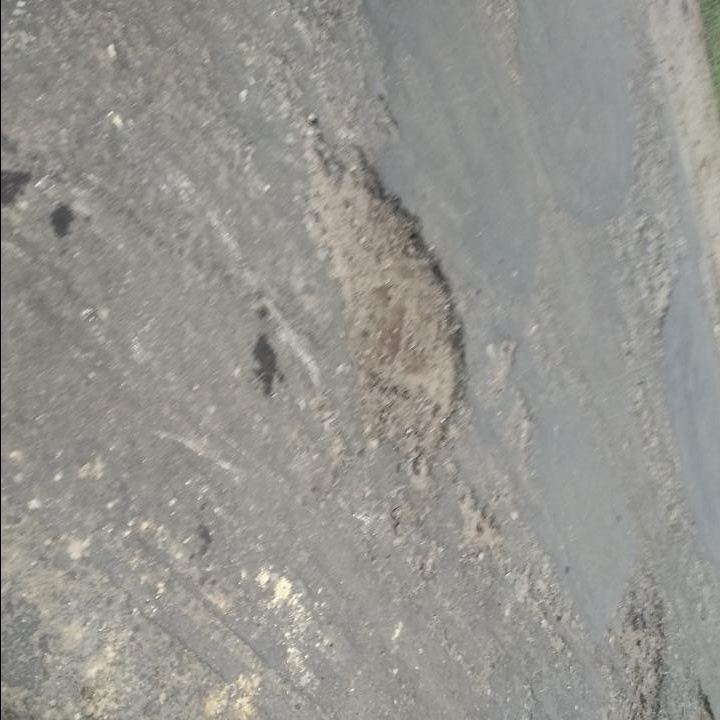pothole: (299, 123, 474, 474), (614, 580, 671, 720), (638, 211, 678, 333)
